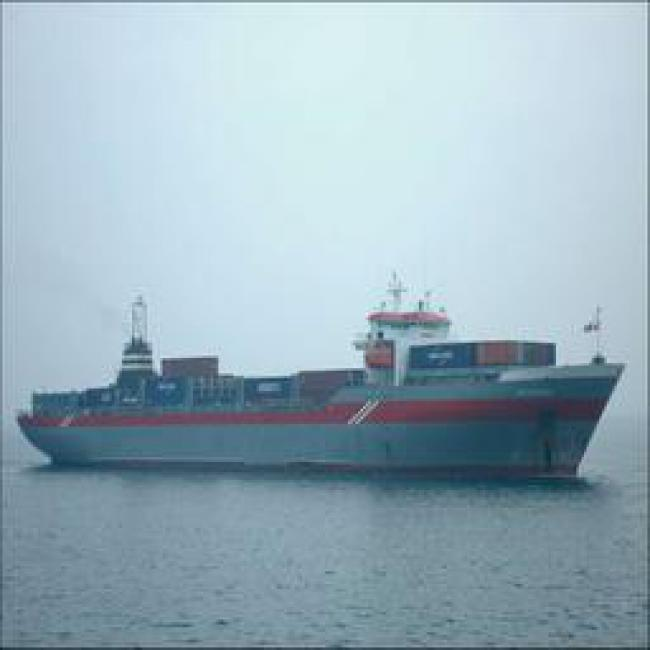Ship: (18, 296, 629, 485)
